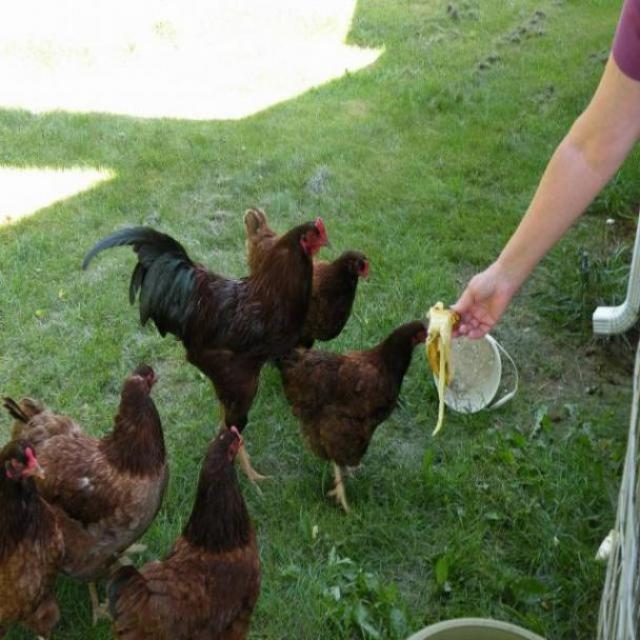Chicken: (79, 210, 339, 499), (0, 359, 171, 627), (99, 423, 266, 639), (266, 314, 433, 518), (237, 205, 380, 355), (0, 437, 69, 639)
